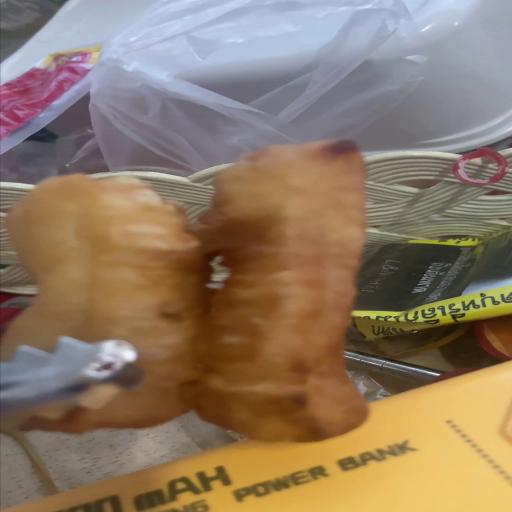street_burnt_defect: (1, 143, 365, 442)
